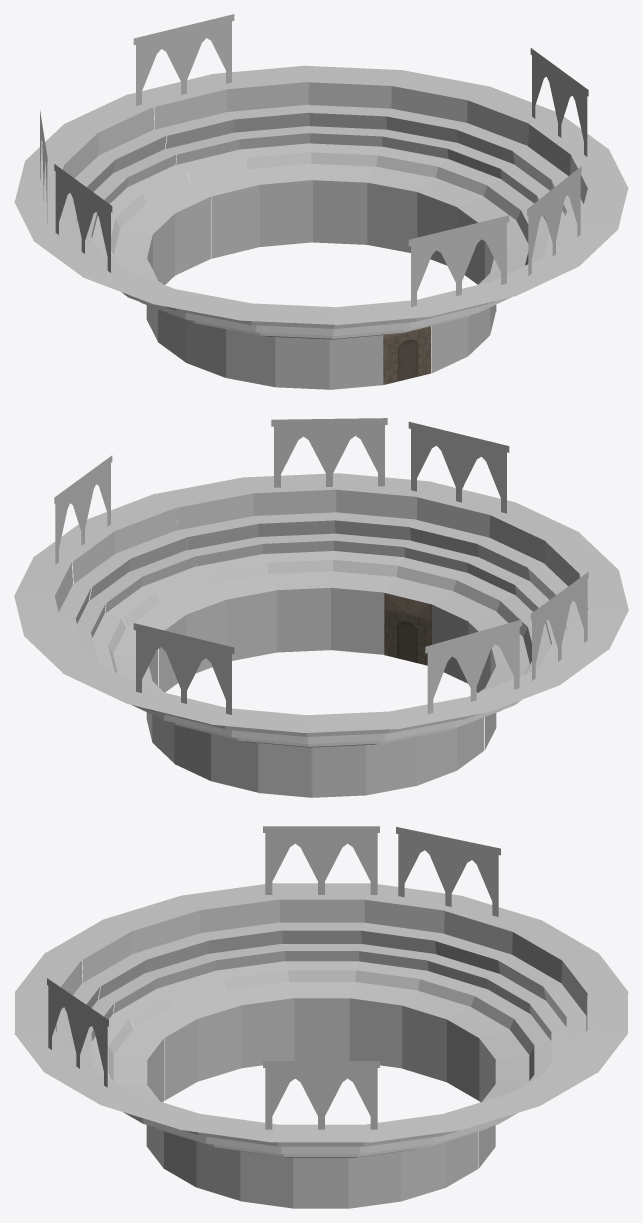
File: coliseum.obj
3 views of the same model, one above another, from view 1: azimuth 30°, elevation 25°; view 2: azimuth 150°, elevation 25°; view 3: azimuth 270°, elevation 25° (orthographic).
Parts seen in each view (by area): view 1: 平面.013_平面.021; view 2: 平面.013_平面.021; view 3: 平面.013_平面.021.
Part boxes in pixels (bbox=[...]): 平面.013_平面.021: bbox=[14, 14, 628, 389]; 平面.013_平面.021: bbox=[14, 418, 628, 797]; 平面.013_平面.021: bbox=[14, 826, 628, 1208].
Bounding box in the file's own units: 1328 × 456 × 1328.
